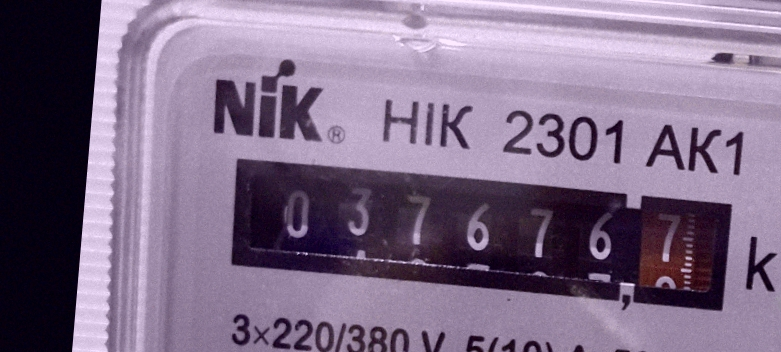0: (278, 183, 316, 241)
3: (342, 180, 374, 239)
6: (460, 196, 496, 252), (583, 205, 617, 262)
7: (521, 202, 557, 263), (399, 189, 434, 248), (651, 207, 683, 265)
screen: (210, 139, 749, 330)
